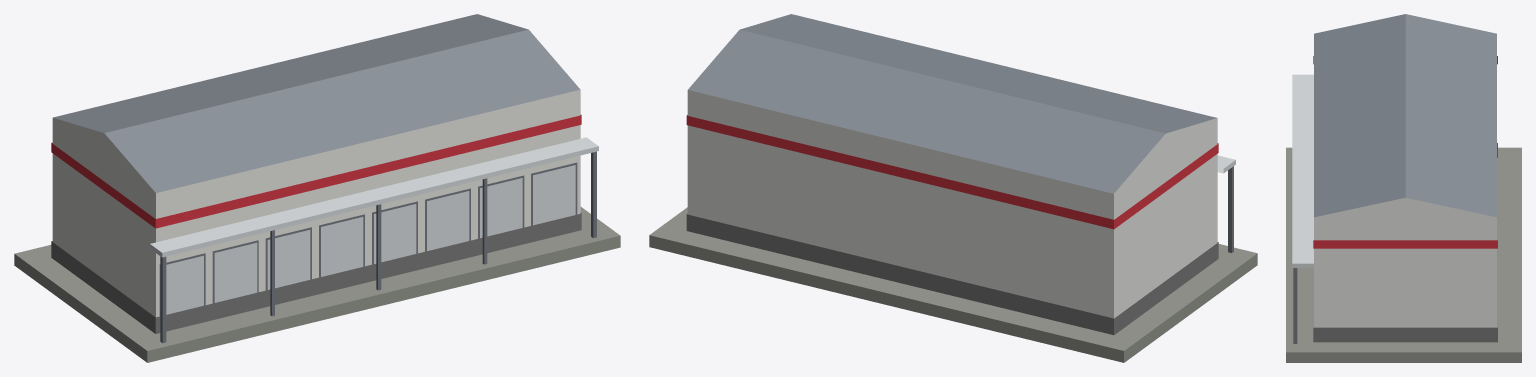
The model's file is mashup-warehouse-top-prebuilt.fbx.
3 views of the same model, side by side, from view 1: azimuth 30°, elevation 25°; view 2: azimuth 150°, elevation 25°; view 3: azimuth 270°, elevation 25° (orthographic). The views are drawn at different scales.
Visible parts, largest first — view 1: a1029/0/mashup-warehouse-top-prebuilt; view 2: a1029/0/mashup-warehouse-top-prebuilt; view 3: a1029/0/mashup-warehouse-top-prebuilt.
Boxes of the visible parts, left/top/right/bottom form: a1029/0/mashup-warehouse-top-prebuilt: left=14, top=14, right=620, bottom=362; a1029/0/mashup-warehouse-top-prebuilt: left=649, top=14, right=1257, bottom=362; a1029/0/mashup-warehouse-top-prebuilt: left=1286, top=14, right=1521, bottom=362.
Size of the model in its own units: 31.2 by 11 by 15.2.
